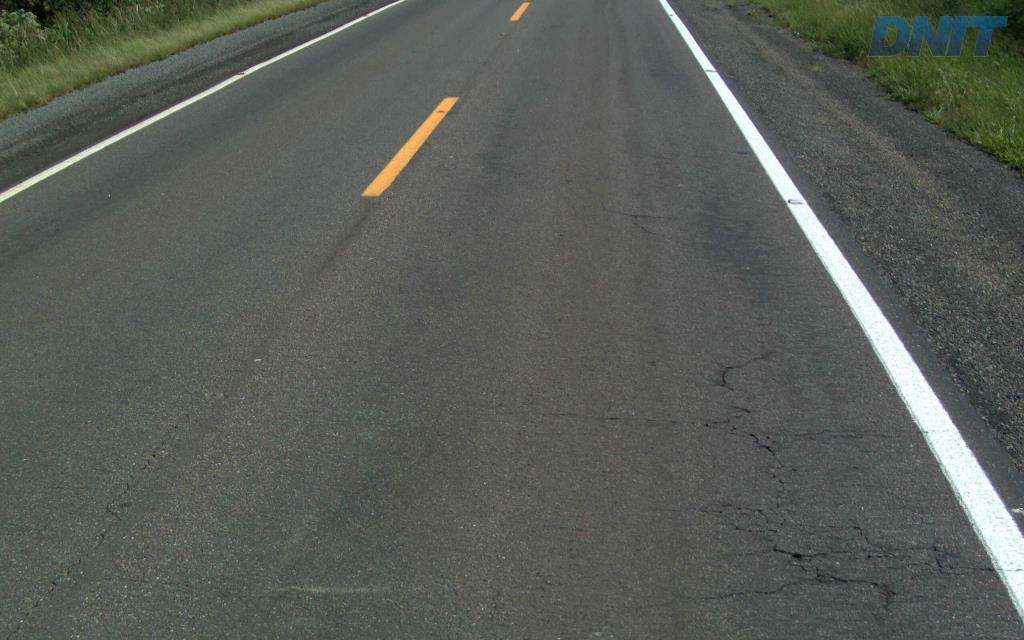crack: (772, 543, 828, 572), (807, 566, 867, 586)
